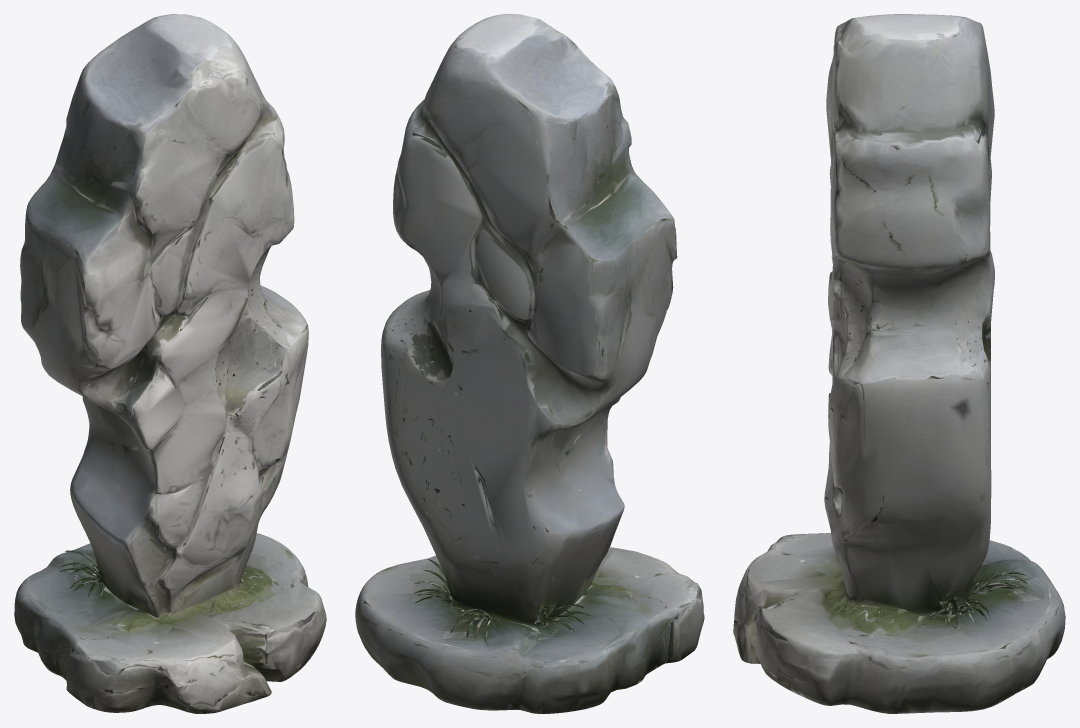
File: stoneBankA-compressed.glb
3 views of the same model, side by side, from view 1: azimuth 30°, elevation 25°; view 2: azimuth 150°, elevation 25°; view 3: azimuth 270°, elevation 25° (orthographic). The views are drawn at different scales.
Visible parts, largest first — view 1: node_0; view 2: node_0; view 3: node_0.
Boxes of the visible parts, x1,y1,x2,y2 form: node_0: (14,14,326,713); node_0: (355,14,704,713); node_0: (733,14,1065,713).
Size of the model in its own units: 0.5033 by 1.1 by 0.5176.
Materials: 1 (1 with a texture image).
